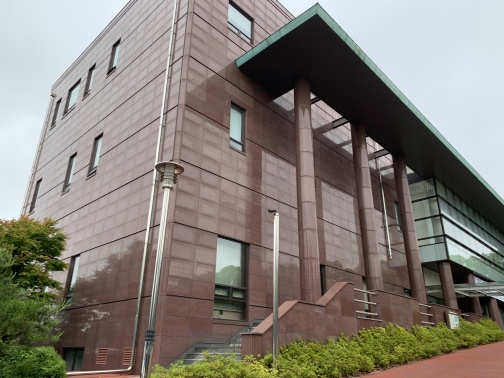Museum: (27, 14, 504, 377), (233, 4, 501, 366)
